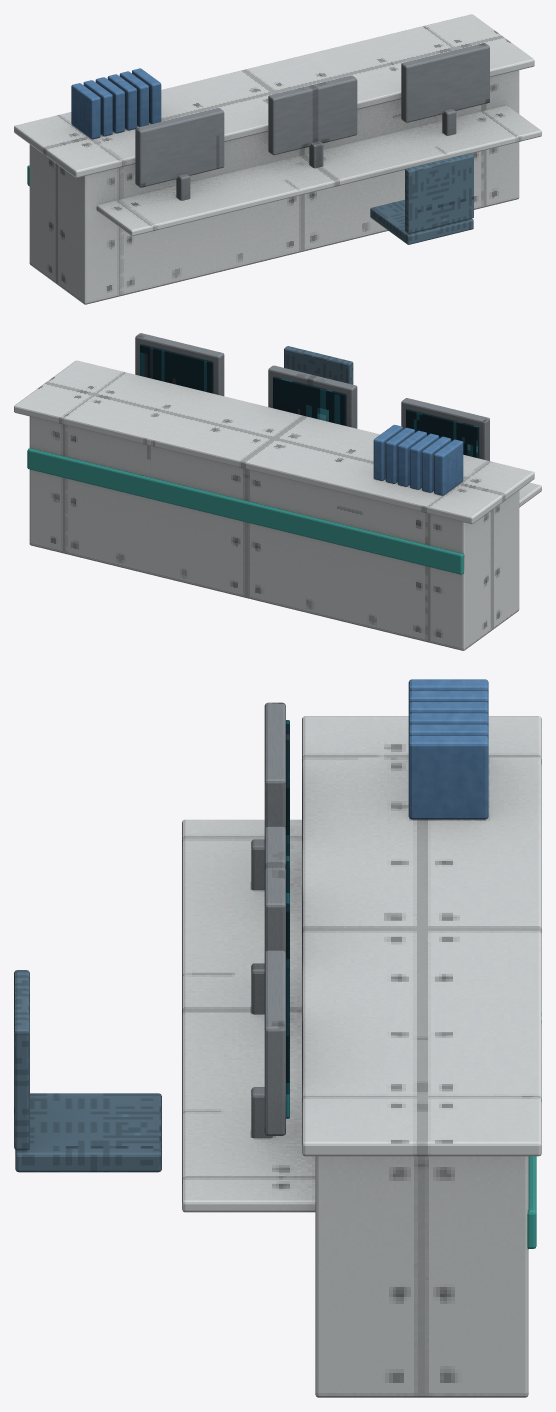
File: base_nurse_station.glb
The picture shows the model from 3 angles, top to bottom: view 1: azimuth 30°, elevation 25°; view 2: azimuth 150°, elevation 25°; view 3: azimuth 270°, elevation 25°; orthographic projection. The views are drawn at different scales.
Visible parts, largest first — view 1: base_nurse_station; view 2: base_nurse_station; view 3: base_nurse_station.
Part boxes in pixels (x1,y1,x2,y2): base_nurse_station: (14, 14, 541, 304); base_nurse_station: (14, 333, 541, 650); base_nurse_station: (14, 679, 541, 1397).
Size of the model in its own units: 3.8 by 1.42 by 1.98.
Materials: 6 (6 with a texture image).
